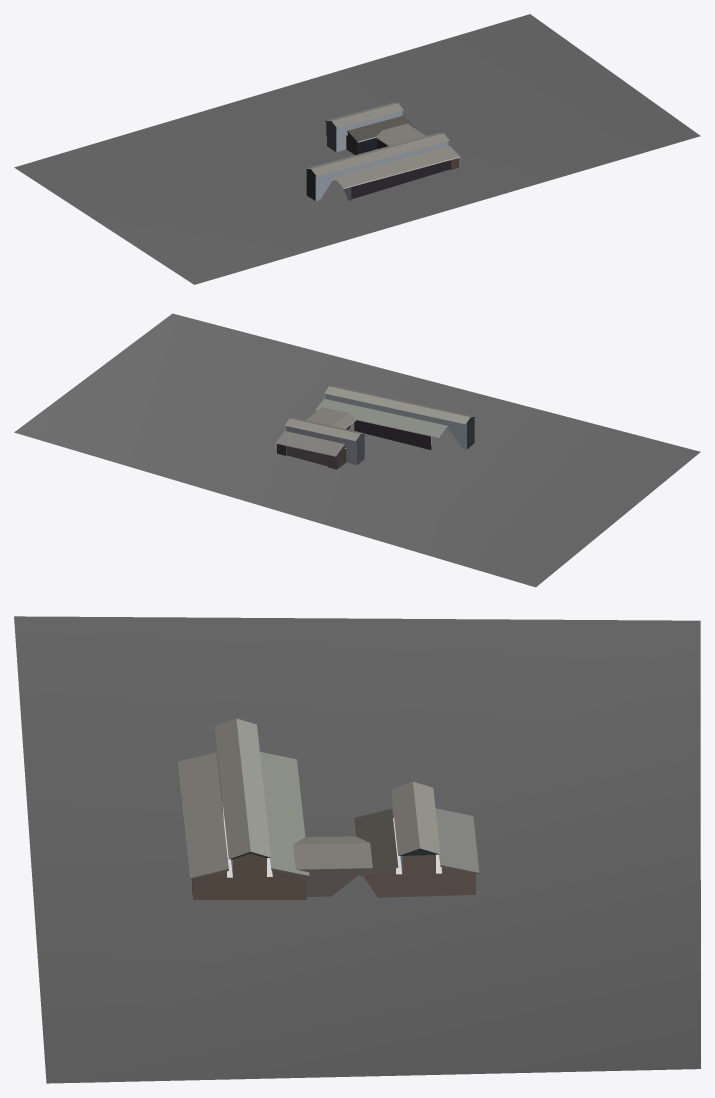
Rendered from aquarium-visitors-center.glb.
The picture shows the model from 3 angles, top to bottom: view 1: azimuth 30°, elevation 25°; view 2: azimuth 150°, elevation 25°; view 3: azimuth 270°, elevation 25°; orthographic projection. The views are drawn at different scales.
Parts seen in each view (by area): view 1: LOD0; view 2: LOD0; view 3: LOD0.
Boxes of the visible parts, bbox=[...] form: LOD0: bbox=[14, 14, 700, 284]; LOD0: bbox=[14, 313, 700, 587]; LOD0: bbox=[14, 616, 700, 1083].
Size of what is drawn, in the model's own units: 234 by 16.8 by 133.
Materials: 2 (2 with a texture image).
